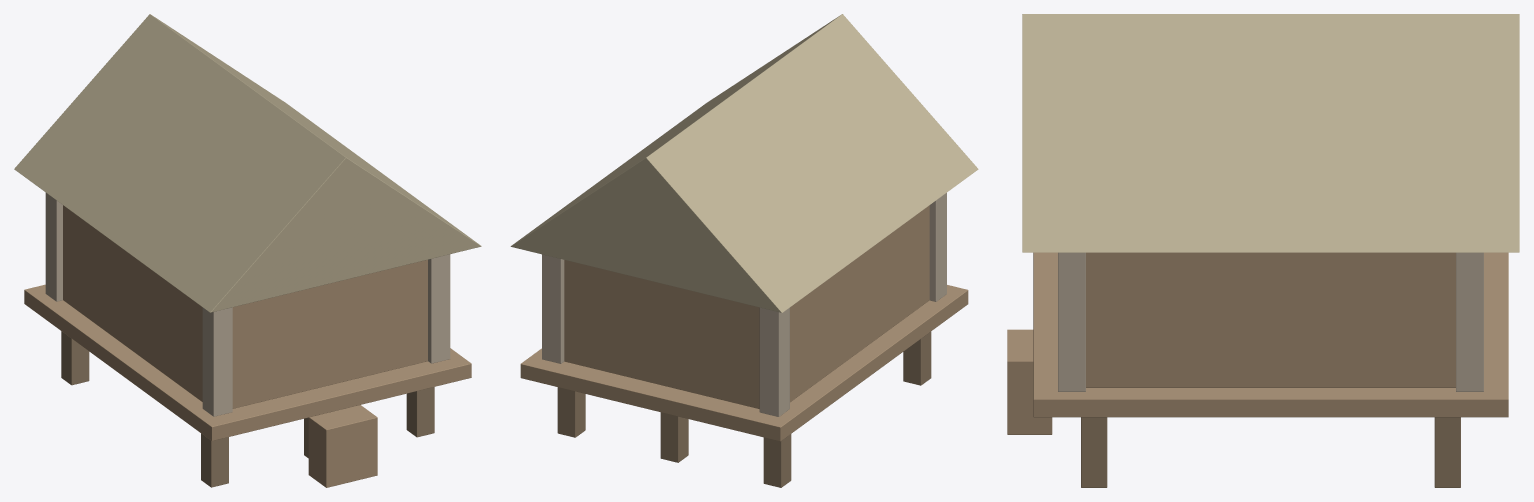
Rendered from House_Neo_d.glb.
The picture shows the model from 3 angles, left to right: view 1: azimuth 30°, elevation 25°; view 2: azimuth 150°, elevation 25°; view 3: azimuth 270°, elevation 25°; orthographic projection. The views are drawn at different scales.
Parts seen in each view (by area): view 1: House_Neo_d; view 2: House_Neo_d; view 3: House_Neo_d.
Boxes of the visible parts, x1=… form: House_Neo_d: x1=14, y1=14, x2=481, y2=487; House_Neo_d: x1=510, y1=14, x2=978, y2=487; House_Neo_d: x1=1007, y1=14, x2=1519, y2=487.
Size of what is drawn, in the model's own units: 3.95 by 4.45 by 5.1.
